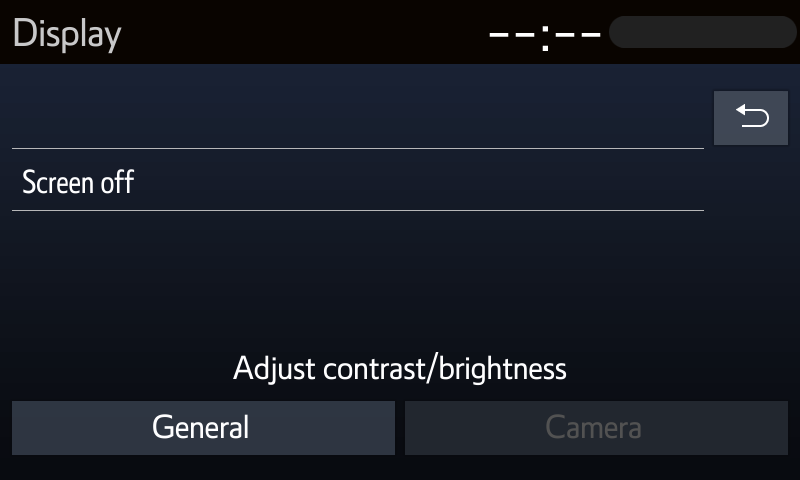touchPart: (13, 402, 396, 455), (714, 90, 788, 146)
untouchPart: (8, 134, 708, 225), (405, 401, 792, 456), (233, 346, 570, 390), (609, 13, 797, 52), (9, 14, 125, 57), (485, 18, 602, 57)
